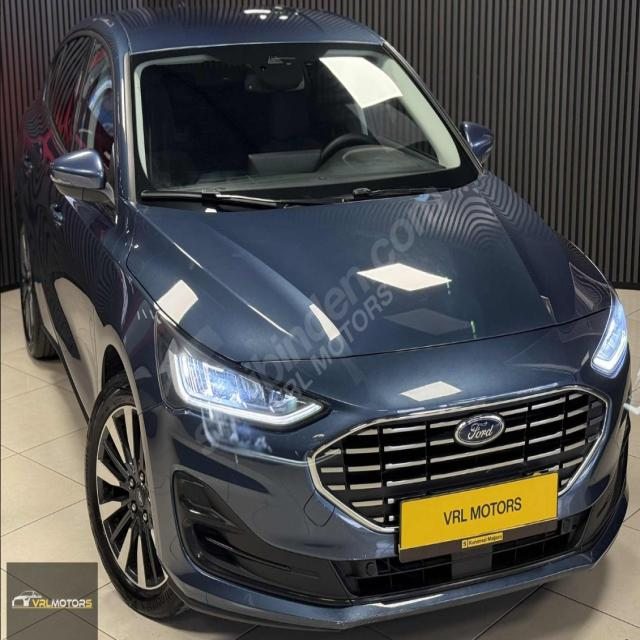ford: (452, 409, 507, 452)
